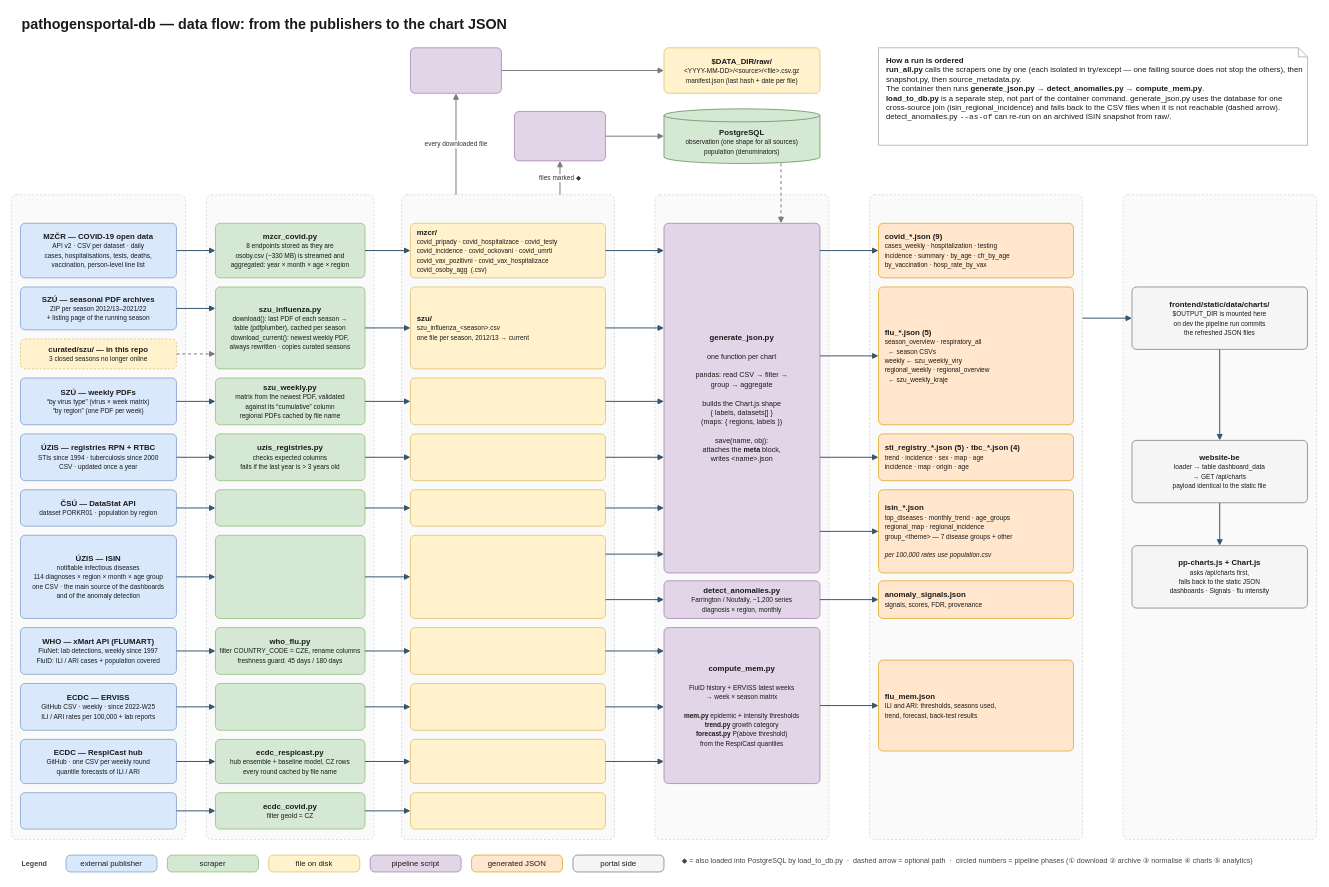
The diagram is 1329 pixels wide and 887 high, and some of its shapes have lost their labels. The shapes that lost their labels are listed below. From the top down, each one's box as (x1, y1, x2, y2) in pixels, then its label:
(410, 47, 501, 93): ② snapshot.py gzip + sha256 unchanged = skipped
(514, 111, 605, 161): ③ load_to_db.py 6 loaders, UPSERT applies db/init.sql
(410, 377, 605, 425): szu/ szu_weekly_viry.csv ◆ szu_weekly_kraje.csv ◆
(410, 433, 605, 481): uzis/ uzis_pohlavni_nemoci.csv ◆ uzis_tuberkuloza.csv ◆
(11, 194, 186, 839): ① Sources (publishers)
(215, 489, 365, 526): csu_population.py region names → NUTS3 codes
(206, 194, 374, 839): ① Scrapers — scripts/scrapers/
(410, 489, 605, 526): csu/ population.csv ◆
(401, 194, 615, 839): CSV — $DATA_DIR/<source>/
(654, 194, 829, 839): ④ ⑤ Generators — scripts/
(869, 194, 1083, 839): JSON — $OUTPUT_DIR/
(1122, 194, 1317, 839): Portal — pathogensportal repo
(215, 535, 365, 618): uzis_isin.py plain file download, no transformation
(410, 535, 605, 618): isin/ isin_infekcni_nemoci.csv ◆
(410, 627, 605, 674): who/ who_fluid_cz.csv ◆ who_flunet_cz.csv ◆ (database only)
(215, 683, 365, 730): ecdc_erviss.py filter countryname = Czechia freshness guard: 45 days
(410, 683, 605, 730): ecdc/ erviss_ili_ari_cz.csv ◆ erviss_nonsentinel_cz.csv (archive only)
(410, 739, 605, 784): ecdc/ respicast_cz.csv
(20, 792, 176, 829): ECDC — COVID-19 daily frozen since autumn 2022
(410, 792, 605, 829): ecdc/ ecdc_covid_cz.csv (archive only)
